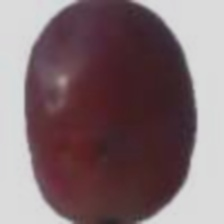grapes: (9, 30, 173, 216)
